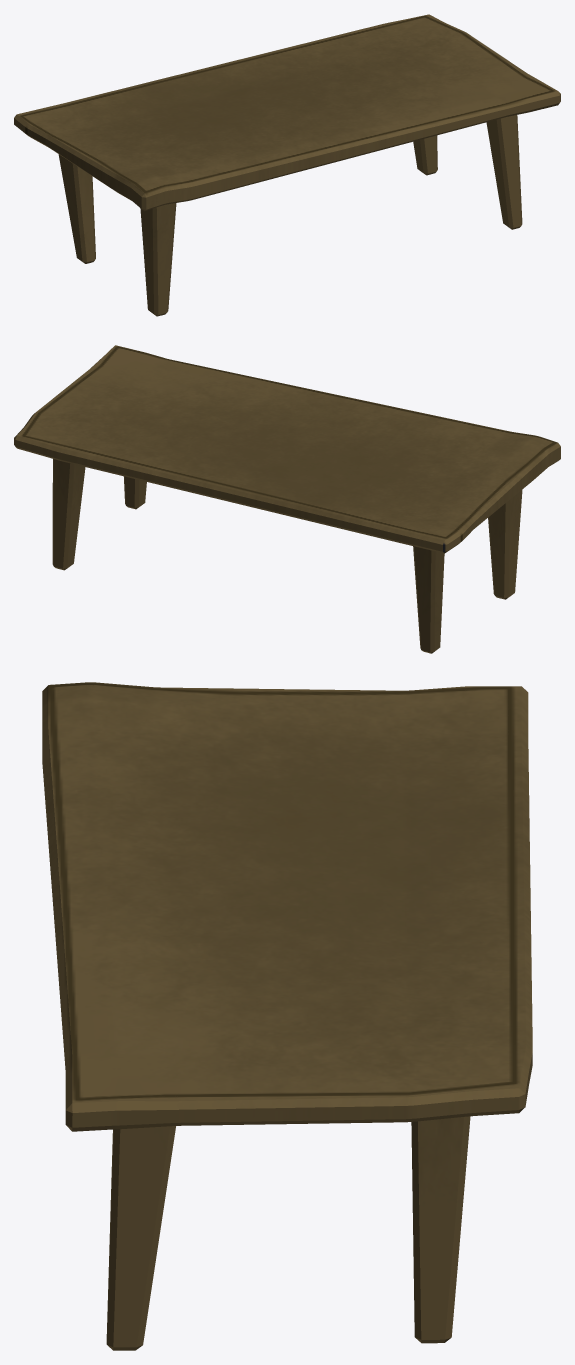
File: dining room table.fbx
3 views of the same model, one above another, from view 1: azimuth 30°, elevation 25°; view 2: azimuth 150°, elevation 25°; view 3: azimuth 270°, elevation 25° (orthographic). The views are drawn at different scales.
Parts seen in each view (by area): view 1: polySurface601; view 2: polySurface601; view 3: polySurface601.
Part boxes in pixels (left/top/right/bottom): polySurface601: left=14, top=14, right=560, bottom=316; polySurface601: left=14, top=345, right=560, bottom=653; polySurface601: left=42, top=682, right=532, bottom=1350.
Bounding box in the file's own units: 2.91 × 0.9244 × 1.42.
Materials: 1 (1 with a texture image).
